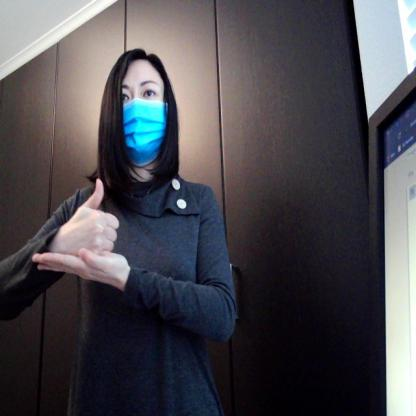help: (29, 175, 132, 293)
